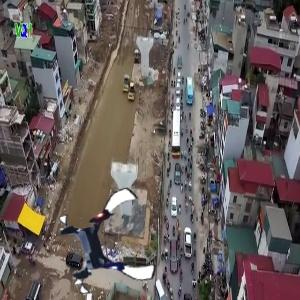drone: (59, 193, 157, 291)
